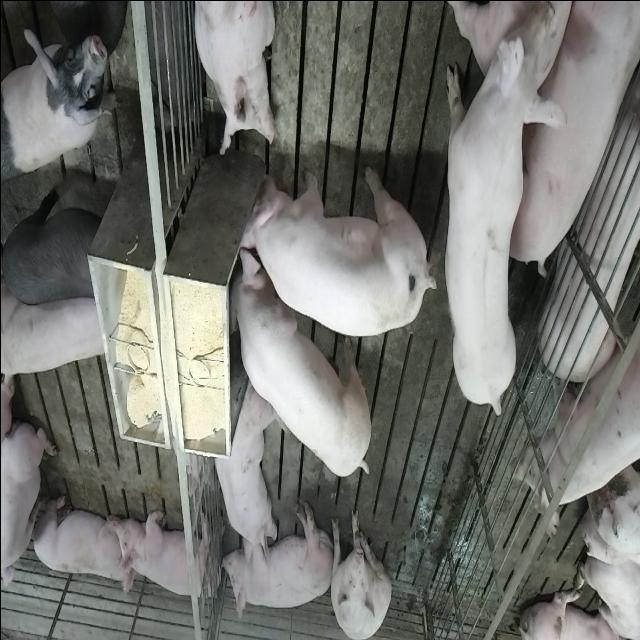Feeding: (235, 160, 434, 338), (229, 251, 377, 478)
Lateral_lying: (512, 0, 640, 273), (540, 44, 640, 382), (218, 499, 334, 621)
Sitting: (328, 505, 390, 639)
Standing: (440, 9, 542, 416), (514, 293, 640, 529), (2, 24, 112, 178), (2, 174, 108, 308), (3, 280, 114, 378)
Sternal_lying: (192, 0, 278, 154), (209, 381, 274, 567), (2, 410, 56, 603), (29, 490, 130, 590), (117, 505, 215, 603)
